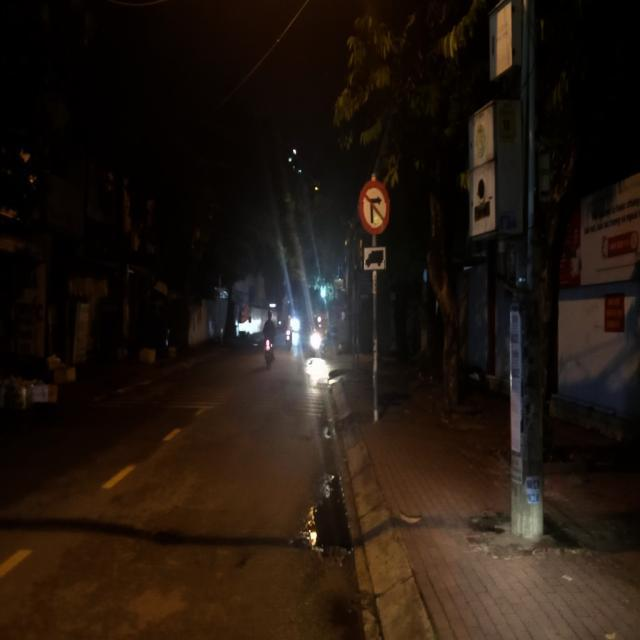123b-cam-re-phai: (358, 178, 389, 234)
